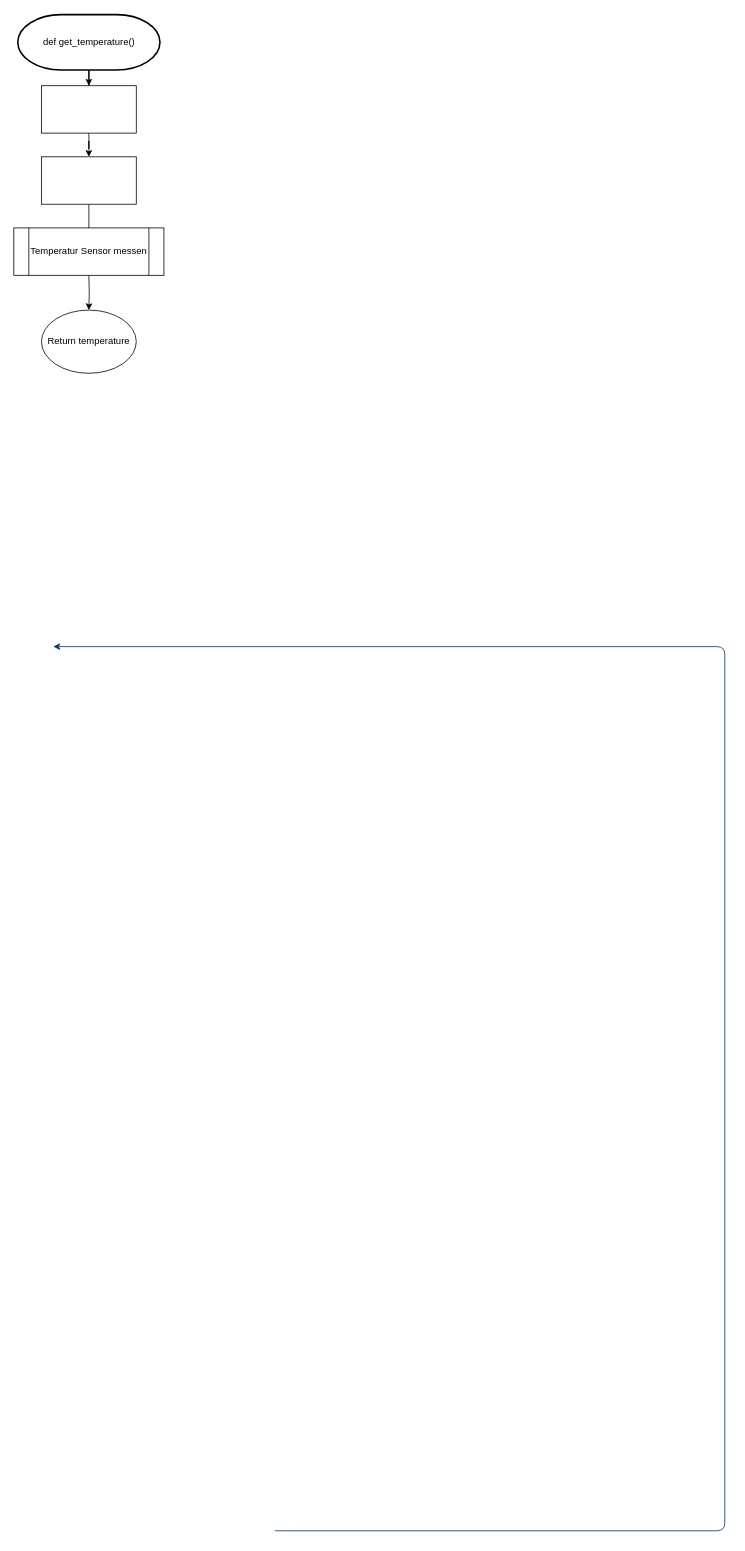
The diagram is 745 pixels wide and 1551 high, and some of its shapes have lost their labels. The shapes that lost their labels are listed below. From the top down, each one's centre as x and y in pixels, then its label:
At (x=88, y=109): "Klassen importieren".
At (x=88, y=180): "Variablen deklarieren".
